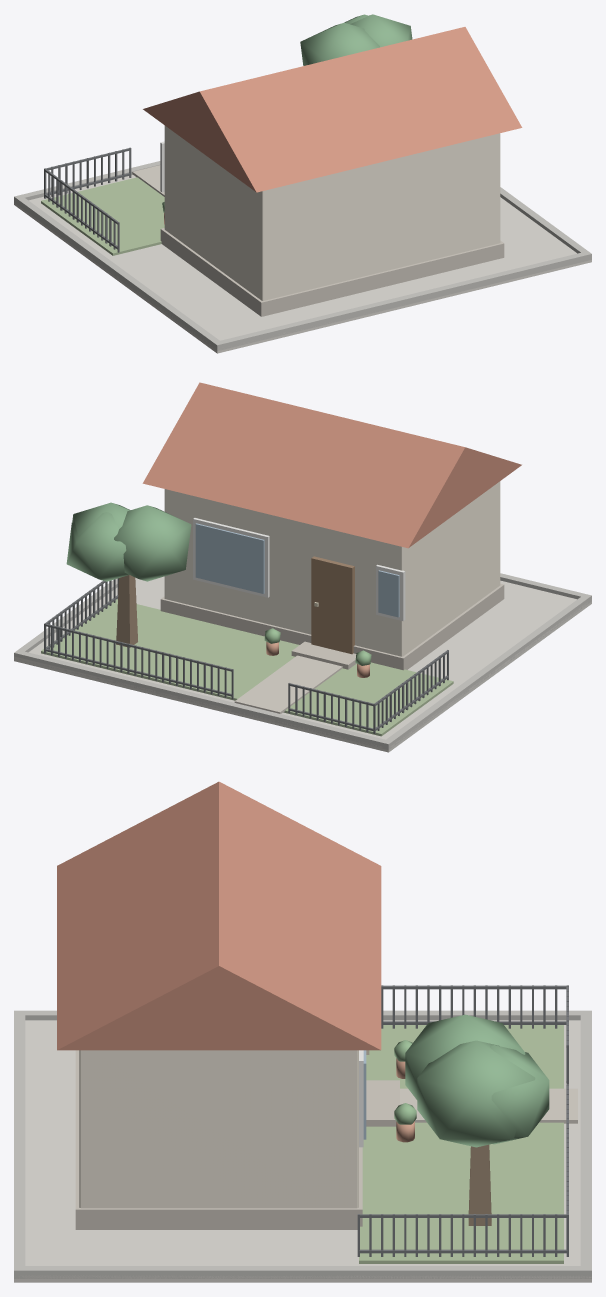
Rendered from mapa.casa.fbx.
The picture shows the model from 3 angles, top to bottom: view 1: azimuth 30°, elevation 25°; view 2: azimuth 150°, elevation 25°; view 3: azimuth 270°, elevation 25°; orthographic projection. The views are drawn at different scales.
Visible parts, largest first — view 1: Muros, Techo, Vereda, Zócalo, Pasto, Solera.001, Solera.003, Copa, Copa.002, Solera.002, Solera, Camino; view 2: Techo, Muros, Pasto, Vereda, Copa, Zócalo, Puerta, Vidrio, Solera, Camino, Copa.001, Solera.003 (+10 smaller); view 3: Techo, Muros, Vereda, Pasto, Copa.002, Solera.002, Zócalo, Copa, Solera.001, Solera, Copa.001, Solera.003 (+6 smaller).
Part boxes in pixels (x1,y1,x2,y2): Muros: (164,125,500,300); Techo: (143,27,522,192); Vereda: (14,175,591,353); Zócalo: (160,228,504,316); Pasto: (41,177,164,255); Solera.001: (213,253,591,350); Solera.003: (14,195,223,350); Copa: (300,22,379,65); Copa.002: (350,14,412,47); Solera.002: (500,187,591,255); Solera: (14,161,160,202); Camino: (132,165,164,196); Techo: (142,382,521,548); Muros: (164,481,500,656); Pasto: (41,598,453,736); Vereda: (14,576,591,752); Copa: (114,505,191,581); Zócalo: (160,583,504,670); Puerta: (311,556,354,654); Vidrio: (195,523,264,593); Solera: (14,650,390,749); Camino: (234,655,342,713); Copa.001: (66,512,128,581); Solera.003: (382,594,591,749); Techo: (57,781,381,1050); Muros: (79,1050,358,1208); Vereda: (14,1020,591,1282); Pasto: (359,1025,563,1263); Copa.002: (417,1040,535,1147); Solera.002: (14,1266,591,1278); Zócalo: (75,1050,362,1229); Copa: (405,1014,525,1099); Solera.001: (14,1010,25,1278); Solera: (580,1010,591,1278); Copa.001: (490,1045,549,1144); Solera.003: (14,1010,590,1020).
Bounding box in the file's own units: 3.3 × 1.65 × 3.1.
